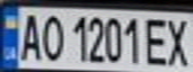0: (103, 13, 124, 64)
1: (121, 14, 145, 65), (66, 11, 87, 63)
2: (84, 12, 106, 64)
A: (15, 10, 45, 62)
E: (142, 14, 172, 66)
O: (36, 11, 66, 62)
X: (163, 15, 193, 69)
